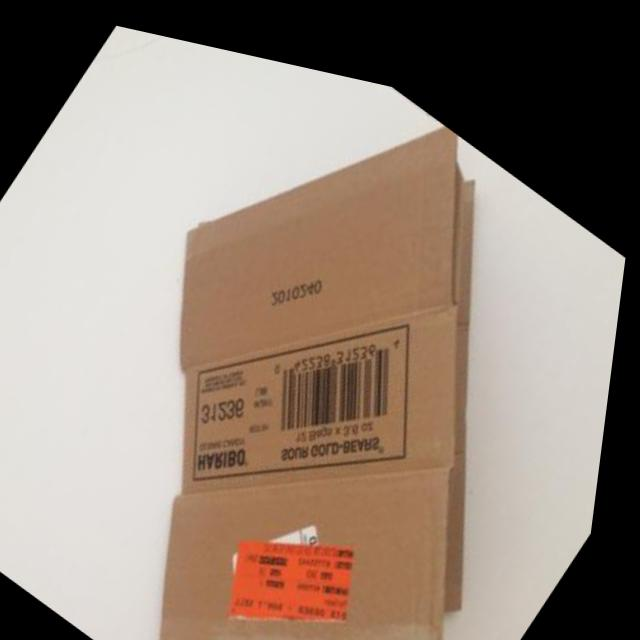cardboard: (0, 1, 640, 640)
